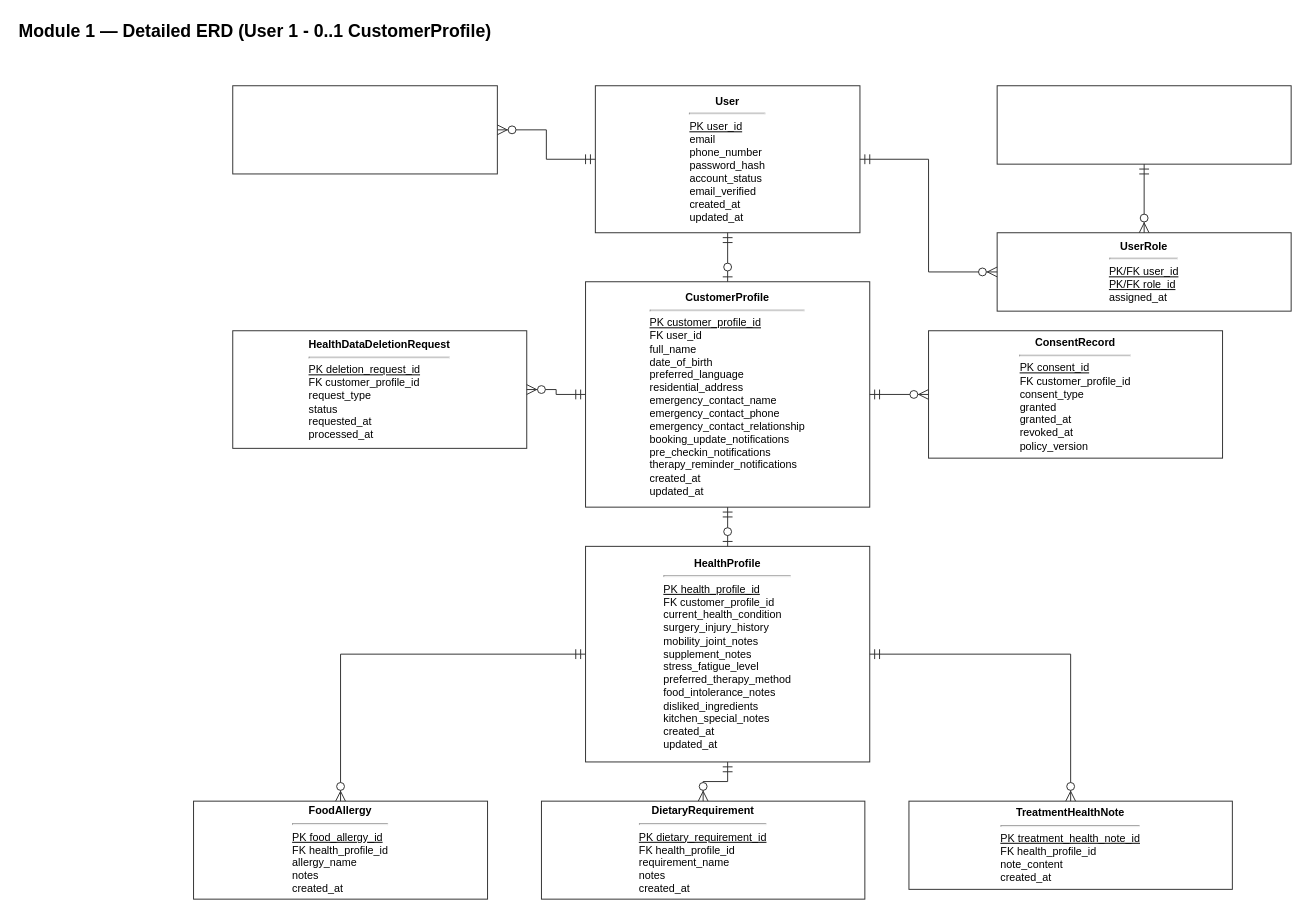
This 1308x916 diagram has some shape labels left out. Here are the shapes that lost their labels. From the top down, the box of each, then its label:
(232, 85, 497, 174): AuthIdentity PK auth_identity_id FK user_id provider provider_subject
(996, 85, 1291, 164): Role PK role_id role_name description
